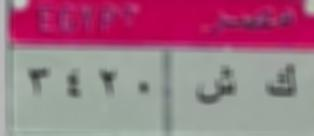0: (136, 76, 153, 99)
2: (96, 64, 121, 100)
3: (25, 61, 53, 102)
4: (61, 65, 87, 104)
kaaf: (263, 58, 302, 104)
sheen: (192, 63, 240, 110)
